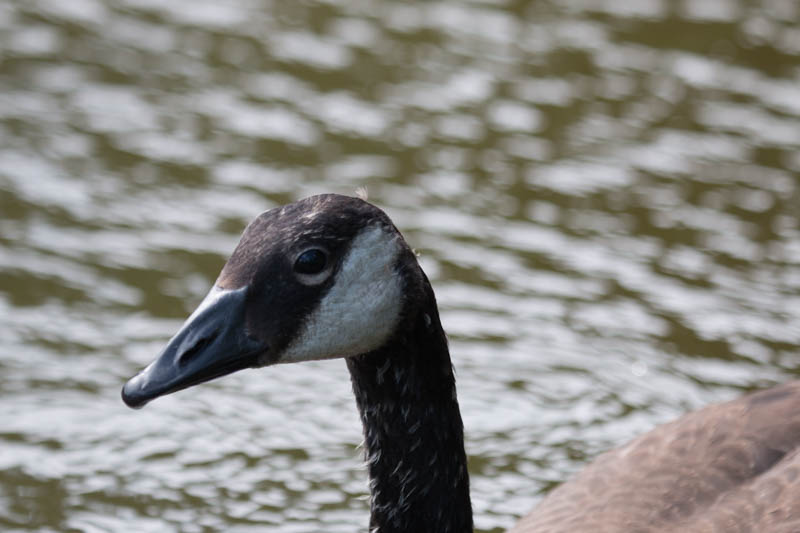goose-head: (119, 193, 432, 412)
